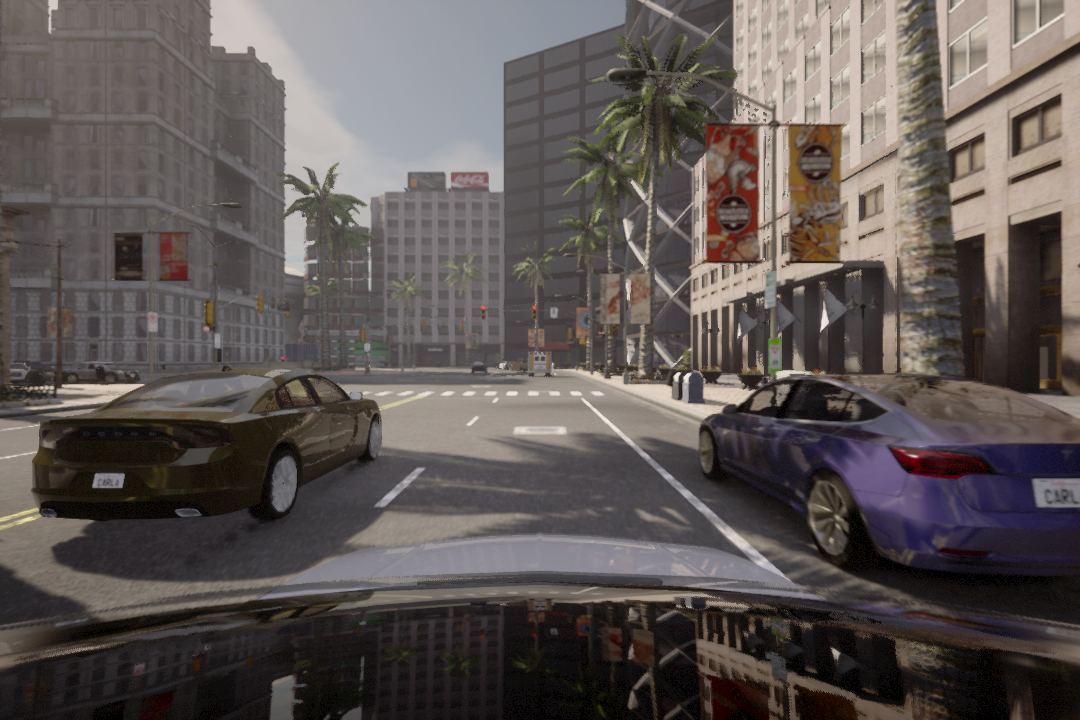TrafficLight: (477, 305, 487, 321), (530, 305, 539, 319)
walkside: (337, 386, 611, 399)
